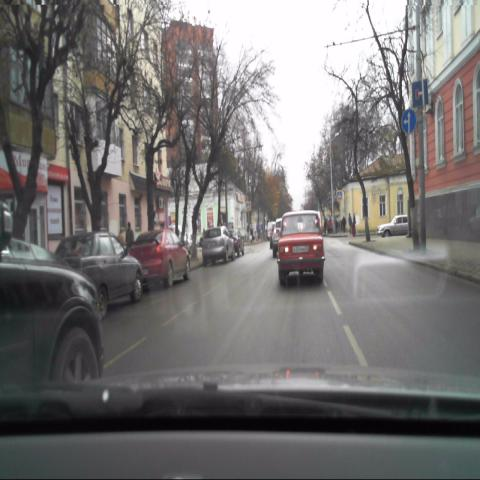4_1_5: (400, 109, 416, 136)
6_8_3: (412, 75, 429, 108)
